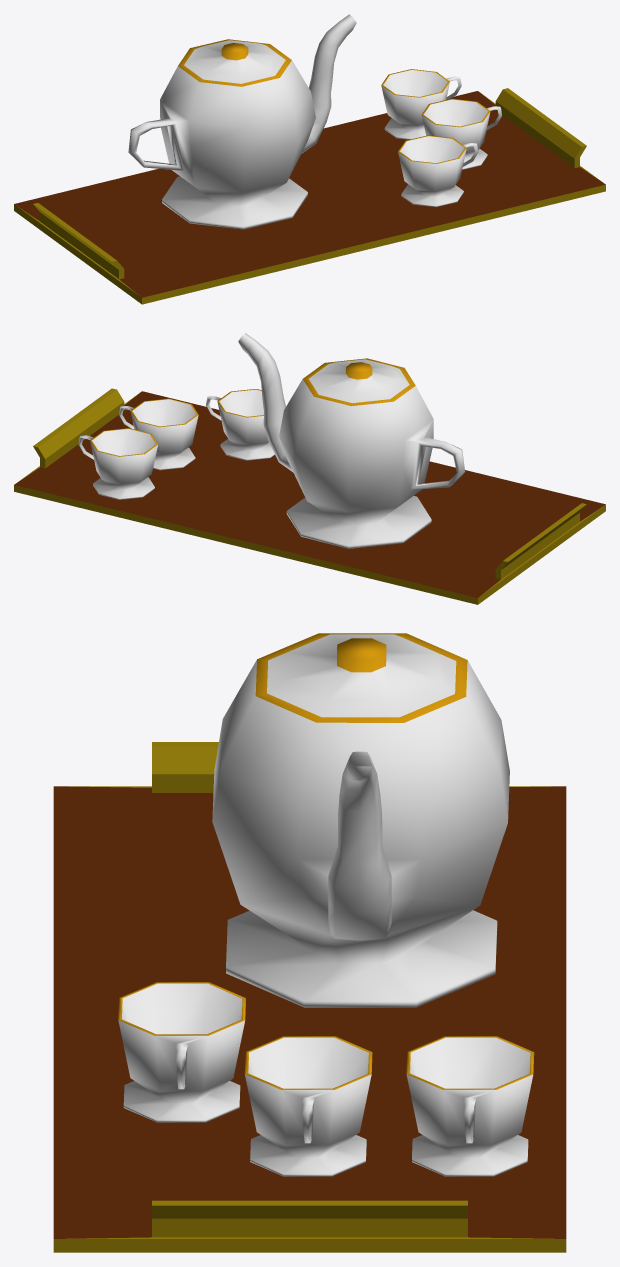
Rendered from teaSet.fbx.
3 renders of one model, top to bottom at view 1: azimuth 30°, elevation 25°; view 2: azimuth 150°, elevation 25°; view 3: azimuth 270°, elevation 25°, orthographic. The views are drawn at different scales.
Parts seen in each view (by area): view 1: Tray, Tea_pot, Tea_cup.002, Tea_cup, Tea_cup.001; view 2: Tray, Tea_pot, Tea_cup, Tea_cup.001, Tea_cup.002; view 3: Tray, Tea_pot, Tea_cup.002, Tea_cup.001, Tea_cup.
Boxes of the visible parts, bbox=[...] form: Tray: bbox=[14, 88, 605, 304]; Tea_pot: bbox=[128, 14, 356, 229]; Tea_cup.002: bbox=[398, 135, 478, 207]; Tea_cup: bbox=[381, 69, 461, 139]; Tea_cup.001: bbox=[421, 98, 501, 169]; Tray: bbox=[14, 388, 605, 604]; Tea_pot: bbox=[238, 333, 465, 548]; Tea_cup: bbox=[78, 428, 158, 499]; Tea_cup.001: bbox=[119, 398, 198, 470]; Tea_cup.002: bbox=[206, 389, 274, 460]; Tray: bbox=[53, 742, 566, 1252]; Tea_pot: bbox=[212, 633, 509, 1007]; Tea_cup.002: bbox=[118, 982, 245, 1122]; Tea_cup.001: bbox=[244, 1036, 372, 1176]; Tea_cup: bbox=[406, 1036, 534, 1176].
Size of the model in its own units: 428 by 141 by 200.
